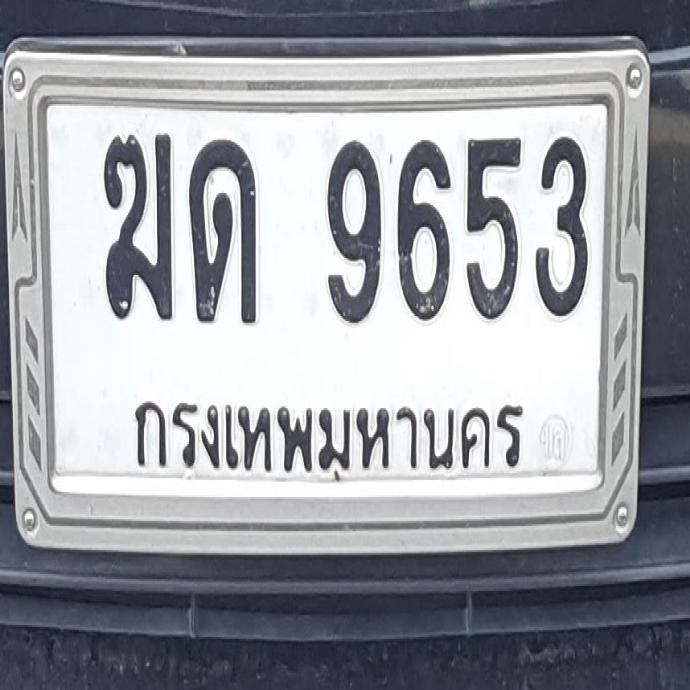3: (533, 132, 588, 322)
5: (463, 131, 521, 323)
6: (396, 135, 451, 323)
9: (324, 136, 380, 326)
A06: (100, 126, 173, 322)
A20: (186, 135, 257, 326)
BKK: (120, 371, 533, 497)
